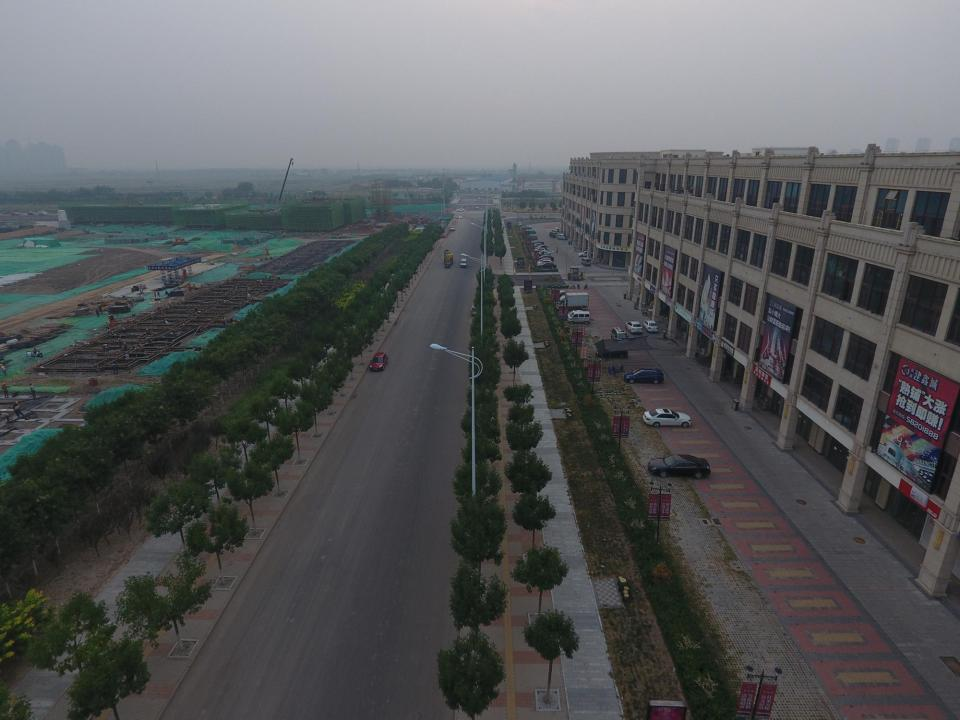car: (647, 454, 711, 479), (643, 409, 691, 427), (624, 368, 664, 383), (369, 352, 388, 370), (625, 321, 643, 334), (643, 320, 659, 333), (564, 310, 584, 318), (537, 260, 553, 266), (538, 255, 554, 261), (538, 263, 556, 268), (578, 251, 595, 256), (535, 250, 551, 255), (534, 245, 549, 250), (530, 241, 545, 246), (537, 258, 552, 262), (533, 248, 547, 252), (524, 230, 537, 234), (531, 244, 544, 248), (522, 225, 532, 229), (456, 208, 465, 212), (455, 214, 462, 219), (450, 225, 455, 231), (518, 222, 522, 226)
truck: (556, 292, 588, 309), (444, 250, 453, 262), (444, 259, 450, 269)
van: (568, 310, 590, 324), (610, 327, 628, 340), (581, 257, 591, 266), (556, 233, 566, 240), (549, 231, 557, 238), (527, 235, 538, 240), (460, 258, 466, 267)
